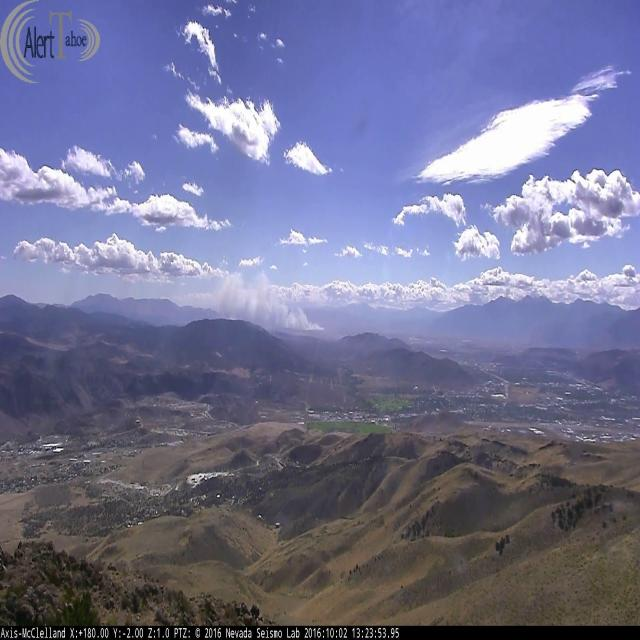smoke: (217, 271, 325, 331)
